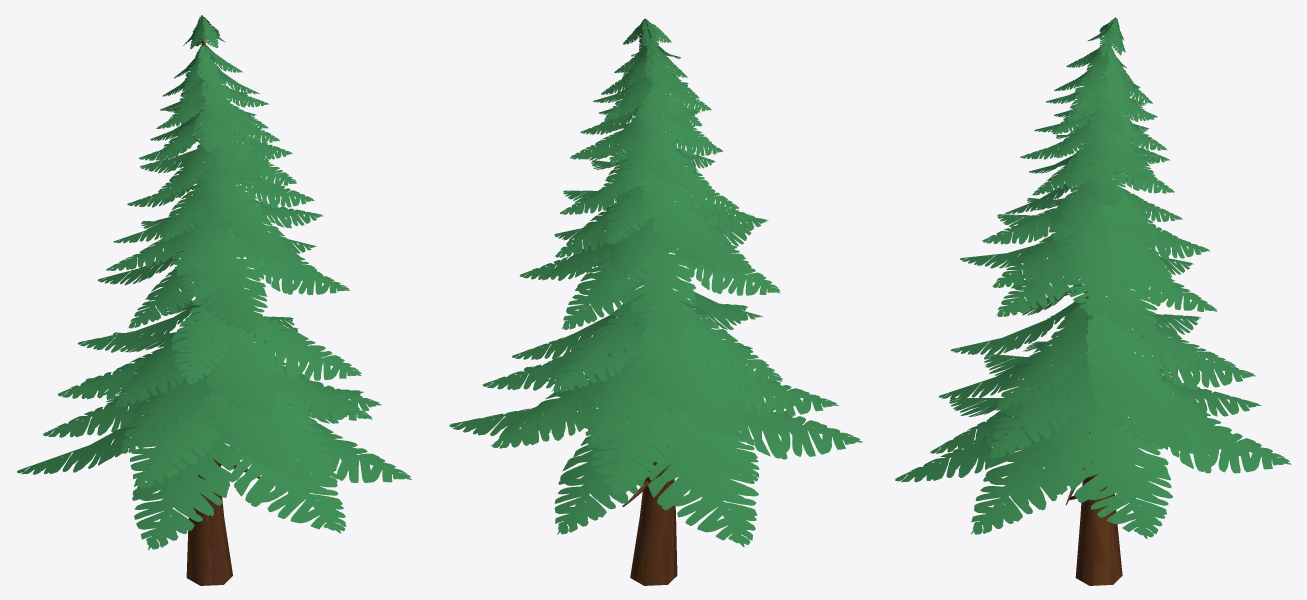
Rendered from st-pine-1.glb.
The picture shows the model from 3 angles, left to right: view 1: azimuth 30°, elevation 25°; view 2: azimuth 150°, elevation 25°; view 3: azimuth 270°, elevation 25°; orthographic projection.
Visible parts, largest first — view 1: STPine1; view 2: STPine1; view 3: STPine1.
Part boxes in pixels (left/top/right/bottom): STPine1: left=17, top=15, right=411, bottom=585; STPine1: left=449, top=18, right=862, bottom=585; STPine1: left=895, top=17, right=1291, bottom=585.
Bounding box in the file's own units: 8.37 × 12.85 × 8.33.
Materials: 2 (2 with a texture image).
